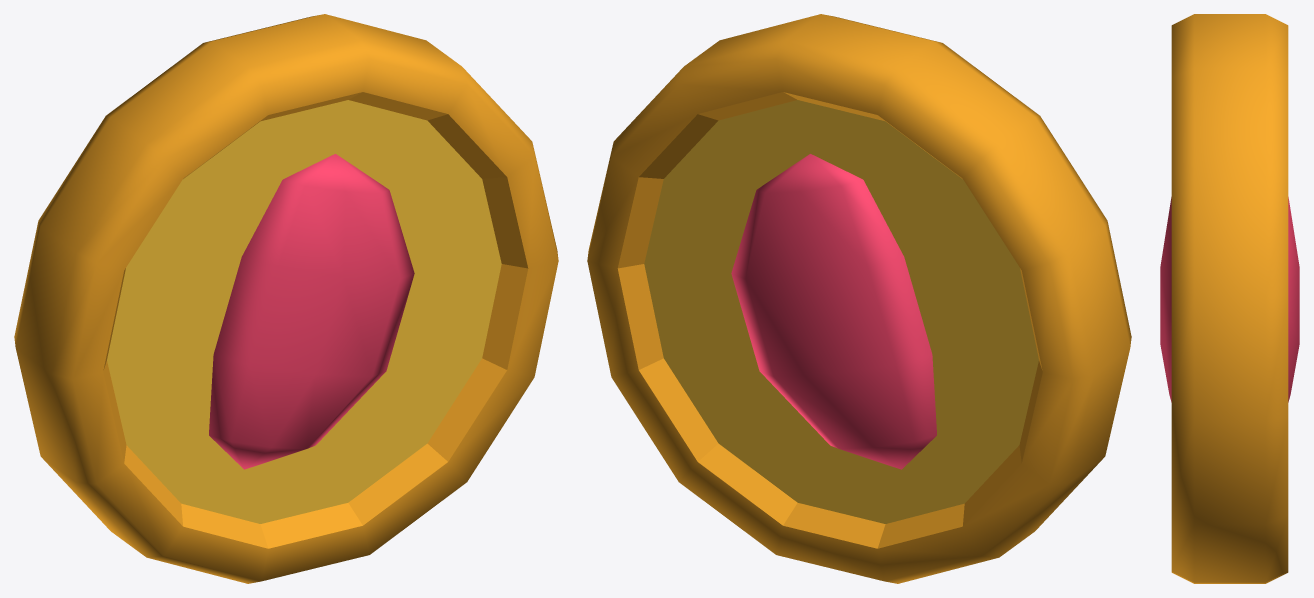
The model's file is jelly_coin.glb.
3 views of the same model, side by side, from view 1: azimuth 30°, elevation 25°; view 2: azimuth 150°, elevation 25°; view 3: azimuth 270°, elevation 25° (orthographic).
Visible parts, largest first — view 1: jelly_coin; view 2: jelly_coin; view 3: jelly_coin.
Part boxes in pixels (<box>): jelly_coin: <box>14,14,558,583</box>; jelly_coin: <box>587,14,1131,583</box>; jelly_coin: <box>1160,14,1299,583</box>.
Size of the model in its own units: 0.36 by 0.351 by 0.086.
